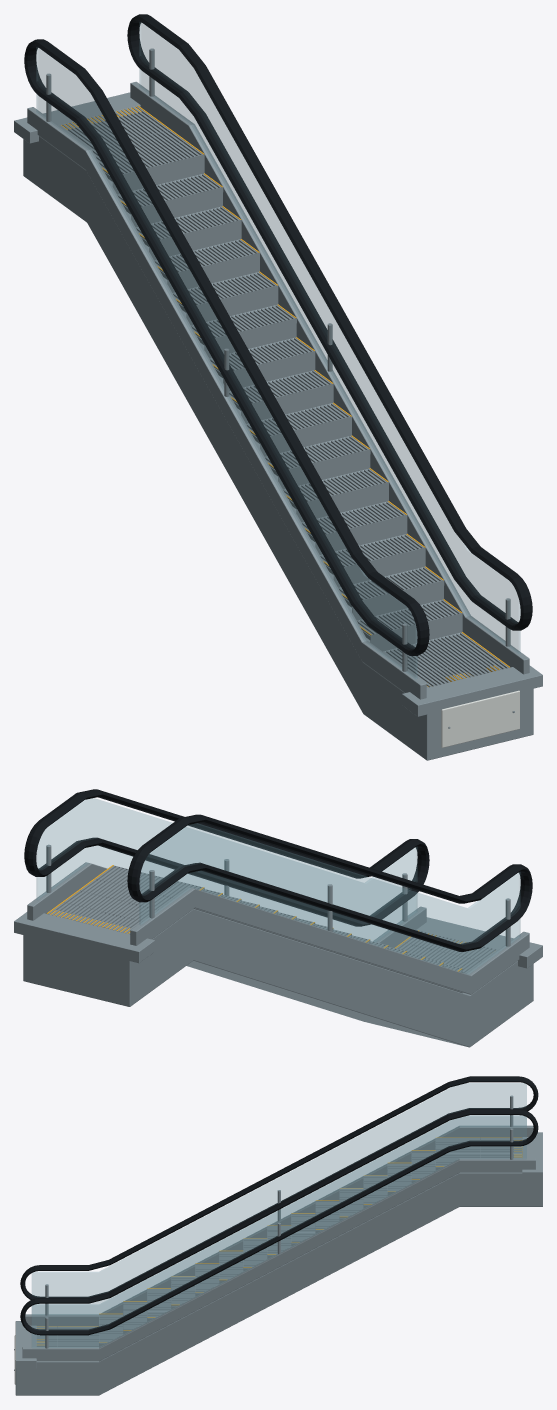
File: edited.glb
3 renders of one model, top to bottom at view 1: azimuth 30°, elevation 25°; view 2: azimuth 150°, elevation 25°; view 3: azimuth 270°, elevation 25°, orthographic. The views are drawn at different scales.
Visible parts, largest first — view 1: RETURN_TrussEnclosure, GUARD_R, GUARD_L, HANDRAIL_L, HANDRAIL_R, SKIRT_L, SKIRT_R, LANDING_Lower, MAINTENANCE_Panel, STEP_15_Tread, STEP_16_Tread, STEP_12_Tread (+34 smaller); view 2: RETURN_TrussEnclosure, GUARD_L, GUARD_R, SKIRT_L, HANDRAIL_L, HANDRAIL_R, LANDING_Upper, SKIRT_R, LANDING_Lower, STEP_19_Tread, STEP_20_Tread, STEP_17_Tread (+3 smaller); view 3: GUARD_R, RETURN_TrussEnclosure, GUARD_L, SKIRT_R, HANDRAIL_R, HANDRAIL_L, SKIRT_L, LANDING_Lower, LANDING_Upper, STEP_09_Tread, STEP_11_Tread, STEP_06_Tread (+12 smaller).
Part boxes in pixels (bbox=[...]): RETURN_TrussEnclosure: bbox=[23, 136, 533, 760]; GUARD_R: bbox=[139, 22, 520, 653]; GUARD_L: bbox=[36, 47, 417, 678]; HANDRAIL_L: bbox=[24, 39, 429, 655]; HANDRAIL_R: bbox=[127, 14, 532, 630]; SKIRT_L: bbox=[27, 107, 426, 699]; SKIRT_R: bbox=[130, 81, 529, 674]; LANDING_Lower: bbox=[402, 665, 542, 716]; MAINTENANCE_Panel: bbox=[441, 690, 519, 747]; STEP_15_Tread: bbox=[136, 206, 241, 247]; STEP_16_Tread: bbox=[117, 174, 223, 214]; STEP_12_Tread: bbox=[191, 305, 296, 345]; RETURN_TrussEnclosure: bbox=[23, 909, 533, 1047]; GUARD_L: bbox=[139, 823, 520, 974]; GUARD_R: bbox=[36, 798, 417, 941]; SKIRT_L: bbox=[130, 887, 529, 994]; HANDRAIL_L: bbox=[127, 814, 532, 951]; HANDRAIL_R: bbox=[24, 789, 429, 926]; LANDING_Upper: bbox=[14, 912, 154, 963]; SKIRT_R: bbox=[27, 862, 426, 947]; LANDING_Lower: bbox=[416, 917, 542, 968]; STEP_19_Tread: bbox=[64, 890, 157, 921]; STEP_20_Tread: bbox=[48, 902, 141, 933]; STEP_17_Tread: bbox=[96, 865, 204, 898]; GUARD_R: bbox=[32, 1116, 526, 1347]; RETURN_TrussEnclosure: bbox=[15, 1147, 542, 1395]; GUARD_L: bbox=[32, 1083, 526, 1314]; SKIRT_R: bbox=[22, 1158, 535, 1361]; HANDRAIL_R: bbox=[20, 1109, 538, 1335]; HANDRAIL_L: bbox=[20, 1076, 538, 1299]; SKIRT_L: bbox=[25, 1125, 533, 1327]; LANDING_Lower: bbox=[15, 1321, 36, 1368]; LANDING_Upper: bbox=[522, 1132, 542, 1179]; STEP_09_Tread: bbox=[243, 1238, 267, 1270]; STEP_11_Tread: bbox=[291, 1213, 315, 1245]; STEP_06_Tread: bbox=[171, 1276, 195, 1308].
Bounding box in the file's own units: 1.36 × 4.53 × 7.62.
